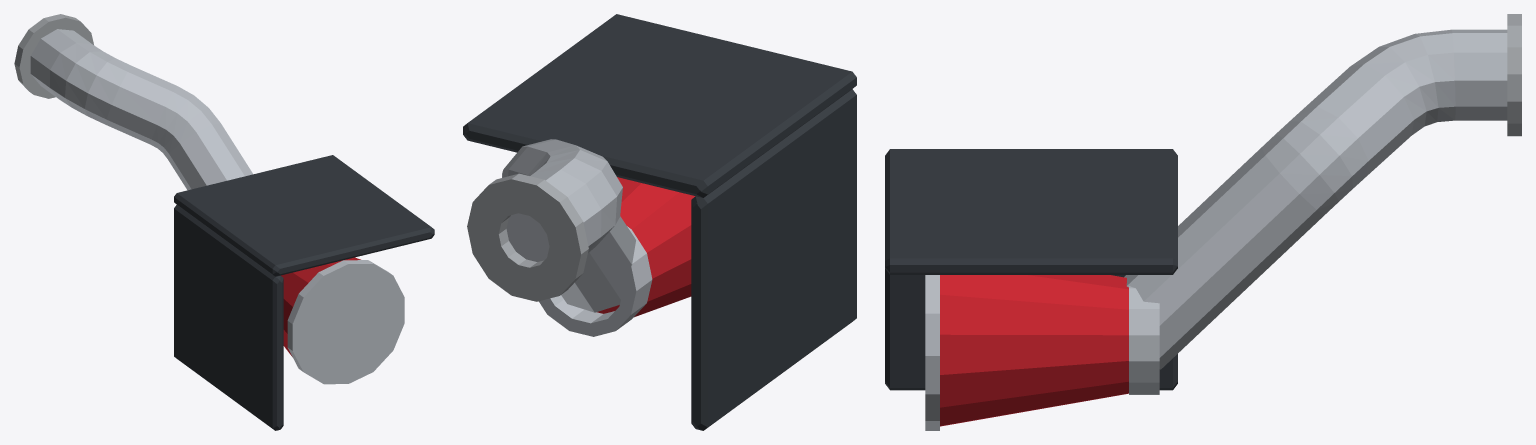
File: hana_roadster.glb
3 renders of one model, left to right at view 1: azimuth 30°, elevation 25°; view 2: azimuth 150°, elevation 25°; view 3: azimuth 270°, elevation 25°, orthographic. The views are drawn at different scales.
Parts seen in each view (by area): view 1: model; view 2: model; view 3: model.
Part boxes in pixels (box(x1,y1,x2,y2)): model: box(14, 14, 434, 430); model: box(463, 14, 856, 430); model: box(885, 14, 1521, 430).
Size of the model in its own units: 0.2713 by 0.33 by 0.522.
Materials: 2 (1 with a texture image).
